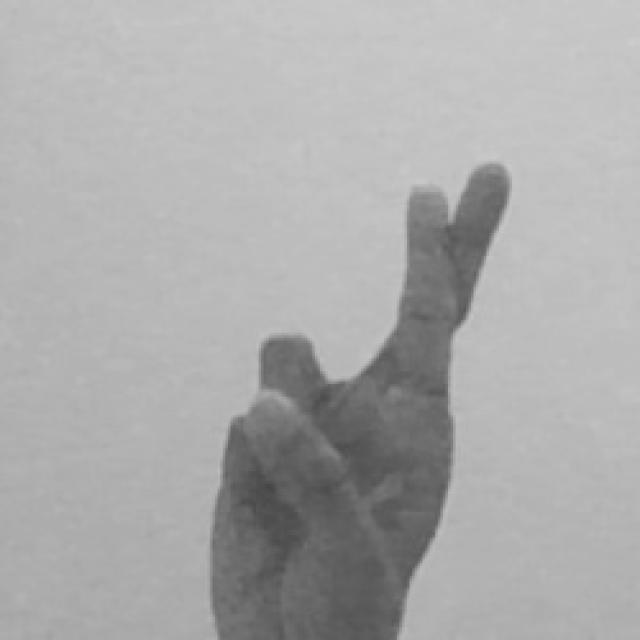R: (207, 158, 514, 640)
